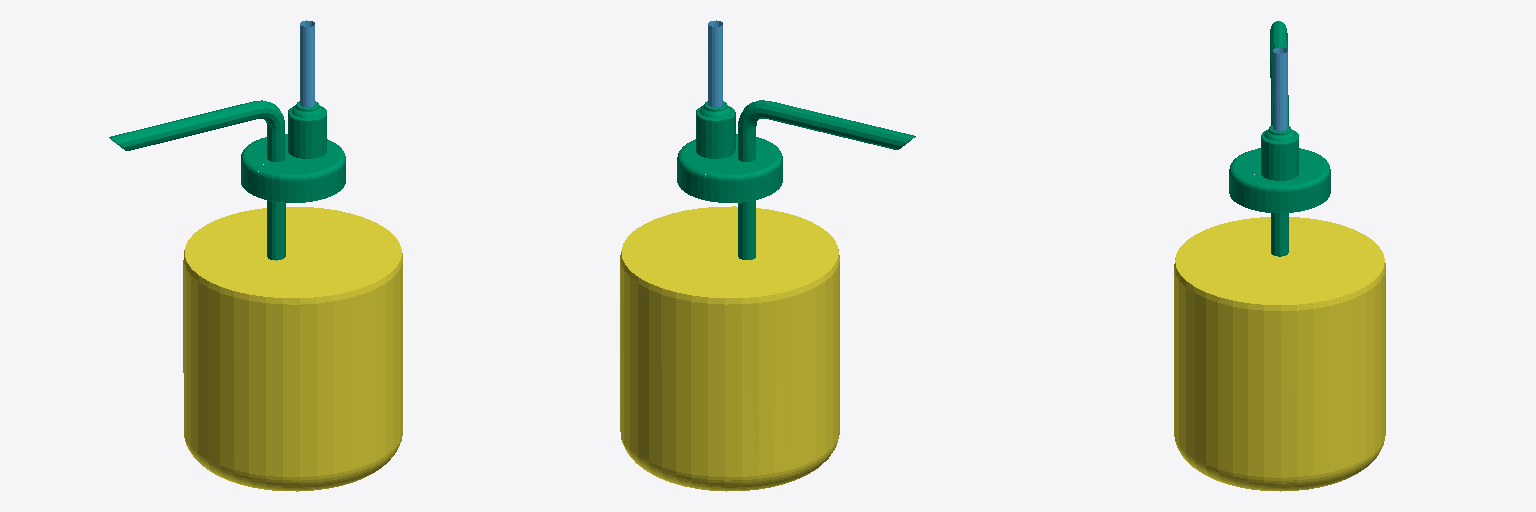
The robot description file, URDF, robot "partnet_8c726f9c-876e-4583-89ae-4255711b14f0":
<?xml version="1.0" ?>
<robot name="partnet_8c726f9c-876e-4583-89ae-4255711b14f0">
	<link name="base"/>
	<link name="link_0">
		<visual name="pressing_lid-1">
			<origin xyz="-0.005210566552212842 0 0.05300036527483853"/>
			<geometry>
				<mesh filename="textured_objs/original-2.obj"/>
			</geometry>
		</visual>
		<visual name="pressing_lid-1">
			<origin xyz="-0.005210566552212842 0 0.05300036527483853"/>
			<geometry>
				<mesh filename="textured_objs/original-4.obj"/>
			</geometry>
		</visual>
		<collision>
			<origin xyz="-0.005210566552212842 0 0.05300036527483853"/>
			<geometry>
				<mesh filename="textured_objs/original-2.obj"/>
			</geometry>
		</collision>
		<collision>
			<origin xyz="-0.005210566552212842 0 0.05300036527483853"/>
			<geometry>
				<mesh filename="textured_objs/original-4.obj"/>
			</geometry>
		</collision>
	</link>
	<joint name="joint_0" type="continuous">
		<origin xyz="0.0 0 0.0"/>
		<axis xyz="0 1 0"/>
		<child link="link_0"/>
		<parent link="link_0_helper"/>
	</joint>
	<link name="link_1">
		<visual name="head-3">
			<origin xyz="-0.005746960569657086 0 0.0077259795611607784"/>
			<geometry>
				<mesh filename="textured_objs/original-6.obj"/>
			</geometry>
		</visual>
		<visual name="head-3">
			<origin xyz="-0.005746960569657086 0 0.0077259795611607784"/>
			<geometry>
				<mesh filename="textured_objs/original-3.obj"/>
			</geometry>
		</visual>
		<visual name="head-3">
			<origin xyz="-0.005746960569657086 0 0.0077259795611607784"/>
			<geometry>
				<mesh filename="textured_objs/original-11.obj"/>
			</geometry>
		</visual>
		<collision>
			<origin xyz="-0.005746960569657086 0 0.0077259795611607784"/>
			<geometry>
				<mesh filename="textured_objs/original-6.obj"/>
			</geometry>
		</collision>
		<collision>
			<origin xyz="-0.005746960569657086 0 0.0077259795611607784"/>
			<geometry>
				<mesh filename="textured_objs/original-3.obj"/>
			</geometry>
		</collision>
		<collision>
			<origin xyz="-0.005746960569657086 0 0.0077259795611607784"/>
			<geometry>
				<mesh filename="textured_objs/original-11.obj"/>
			</geometry>
		</collision>
	</link>
	<joint name="joint_1" type="continuous">
		<origin xyz="0.0 0 0.0"/>
		<axis xyz="0 -1 0"/>
		<child link="link_1"/>
		<parent link="link_1_helper"/>
	</joint>
	<link name="link_2">
		<visual name="base_body-4">
			<origin xyz="0 0 0"/>
			<geometry>
				<mesh filename="textured_objs/original-9.obj"/>
			</geometry>
		</visual>
		<visual name="base_body-4">
			<origin xyz="0 0 0"/>
			<geometry>
				<mesh filename="textured_objs/original-7.obj"/>
			</geometry>
		</visual>
		<visual name="base_body-4">
			<origin xyz="0 0 0"/>
			<geometry>
				<mesh filename="textured_objs/original-10.obj"/>
			</geometry>
		</visual>
		<collision>
			<origin xyz="0 0 0"/>
			<geometry>
				<mesh filename="textured_objs/original-9.obj"/>
			</geometry>
		</collision>
		<collision>
			<origin xyz="0 0 0"/>
			<geometry>
				<mesh filename="textured_objs/original-7.obj"/>
			</geometry>
		</collision>
		<collision>
			<origin xyz="0 0 0"/>
			<geometry>
				<mesh filename="textured_objs/original-10.obj"/>
			</geometry>
		</collision>
	</link>
	<joint name="joint_2" type="fixed">
		<origin rpy="1.570796326794897 0 -1.570796326794897" xyz="0 0 0"/>
		<child link="link_2"/>
		<parent link="base"/>
	</joint>
	<link name="link_0_helper"/>
	<joint name="joint_3" type="prismatic">
		<origin xyz="-0.0005363940174442439 0 -0.04527438571367775"/>
		<axis xyz="0 -1 0"/>
		<child link="link_0_helper"/>
		<parent link="link_1"/>
		<limit lower="0" upper="0.2"/>
	</joint>
	<link name="link_1_helper"/>
	<joint name="joint_4" type="prismatic">
		<origin xyz="0.005746960569657086 0 -0.0077259795611607784"/>
		<axis xyz="0 1 0"/>
		<child link="link_1_helper"/>
		<parent link="link_2"/>
		<limit lower="0" upper="0.020000000000000018"/>
	</joint>
</robot>

--- Render facts (derived) ---
3 views of the same robot in one strip: view 1: azimuth 30°, elevation 25°; view 2: azimuth 150°, elevation 25°; view 3: azimuth 270°, elevation 25° (orthographic).
Model partnet_8c726f9c-876e-4583-89ae-4255711b14f0 with 6 links and 5 joints (2 continuous, 2 prismatic, 1 fixed), rooted at base, posed every joint at zero.
Links seen in each view (by area): view 1: link_2, link_1, link_0; view 2: link_2, link_1, link_0; view 3: link_2, link_1, link_0.
Link boxes in pixels (x1,y1,x2,y2): link_2: (183,207,402,491); link_1: (109,100,345,260); link_0: (300,20,314,109); link_2: (620,206,839,491); link_1: (677,100,915,259); link_0: (708,20,722,109); link_2: (1174,217,1385,491); link_1: (1229,21,1330,256); link_0: (1273,47,1287,130).
Size in the robot's own frame: 0.877 by 0.5987 by 1.28 metres.
Meshes: 8 distinct files referenced, 5 mesh visuals loaded (5 OBJ); not drawn: 3 (reference not matched to a file when rendering).
